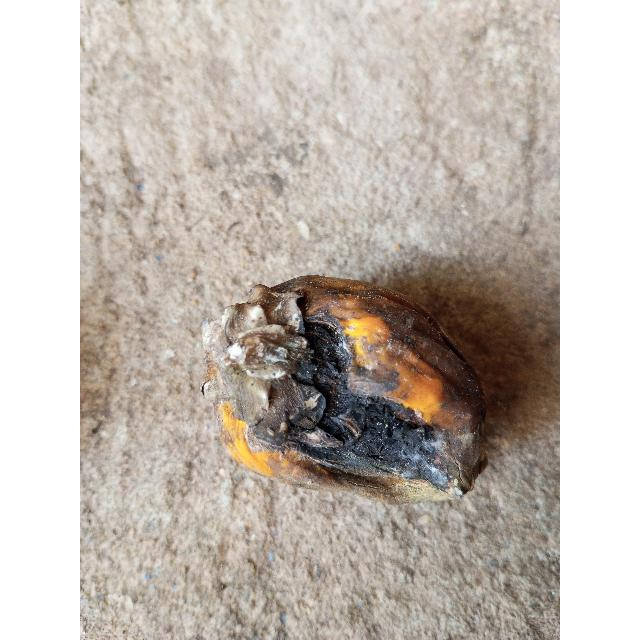damaged: (201, 276, 487, 503)
